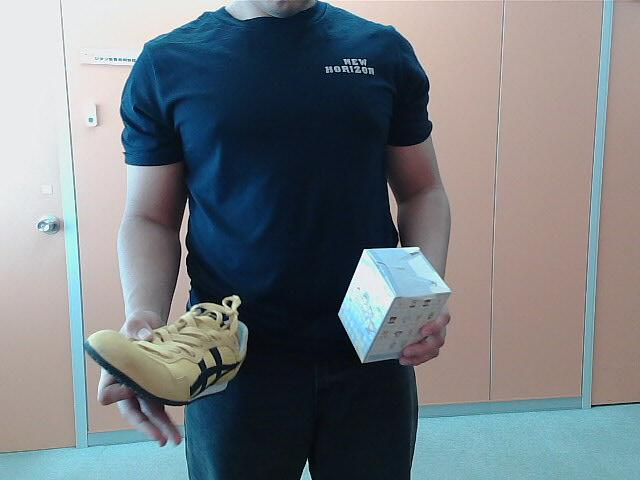Blind_box: (338, 240, 454, 371)
Shoes: (77, 295, 254, 406)
